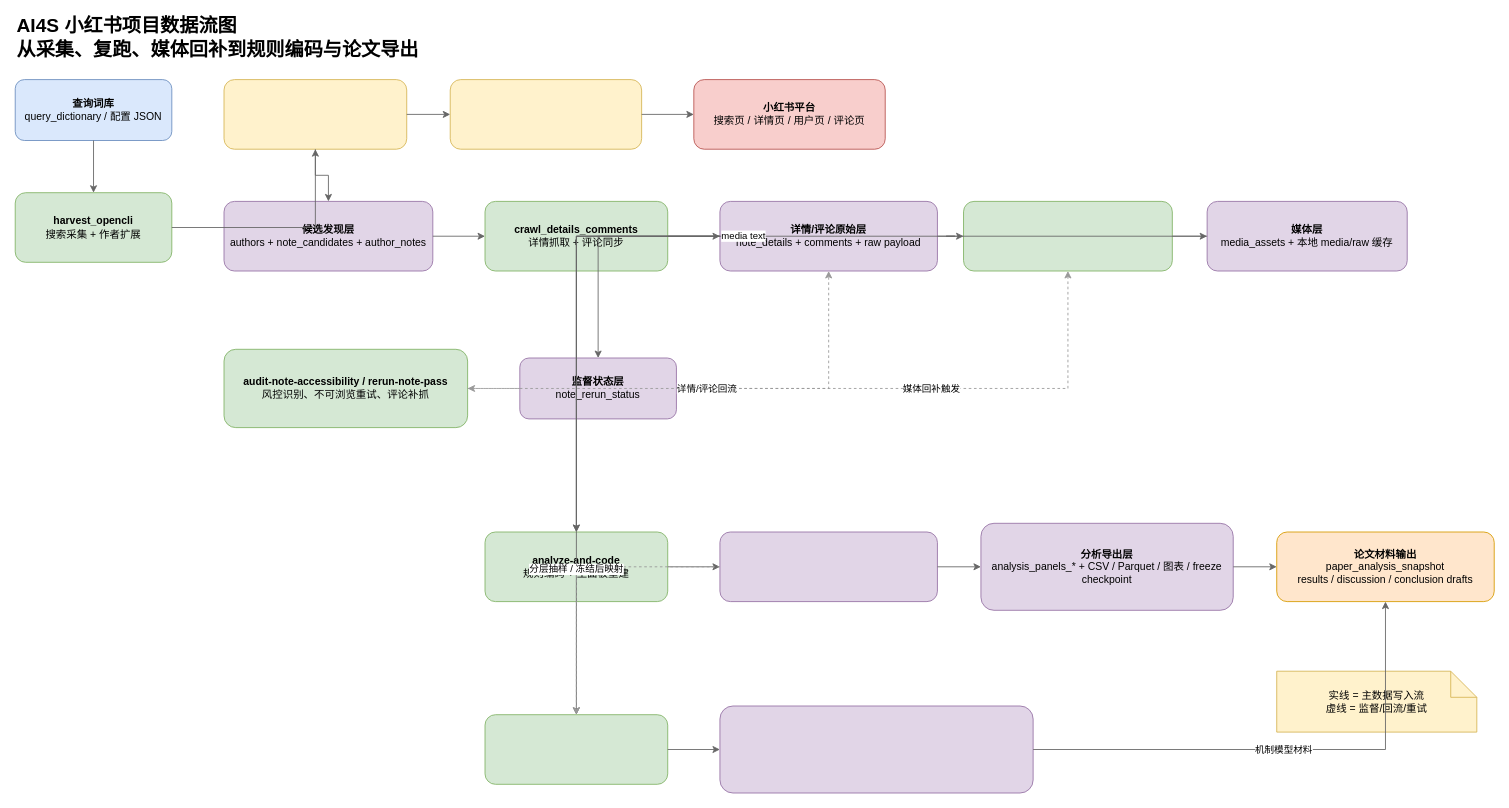
Image size: 1509x808. Some labels were removed from this diagram. The box of each missing label's shape, as (x1, y1, x2, y2) in pixels:
backfill-media-recognition 媒体审计 + OCR / 关键帧 / ASR: (963, 201, 1172, 271)
Google Chrome + CDP 容器内真实浏览器会话: (449, 79, 642, 149)
grounded-theory-run discovery / formal / export: (484, 714, 668, 784)
OpenCLI 工具箱 xiaohongshu search / user / download: (223, 79, 407, 149)
扎根理论层 grounded_runs / units / codebook / open / axial / selective / audit: (719, 705, 1033, 793)
编码层 coding_labels_posts + coding_labels_comments: (719, 531, 937, 602)
